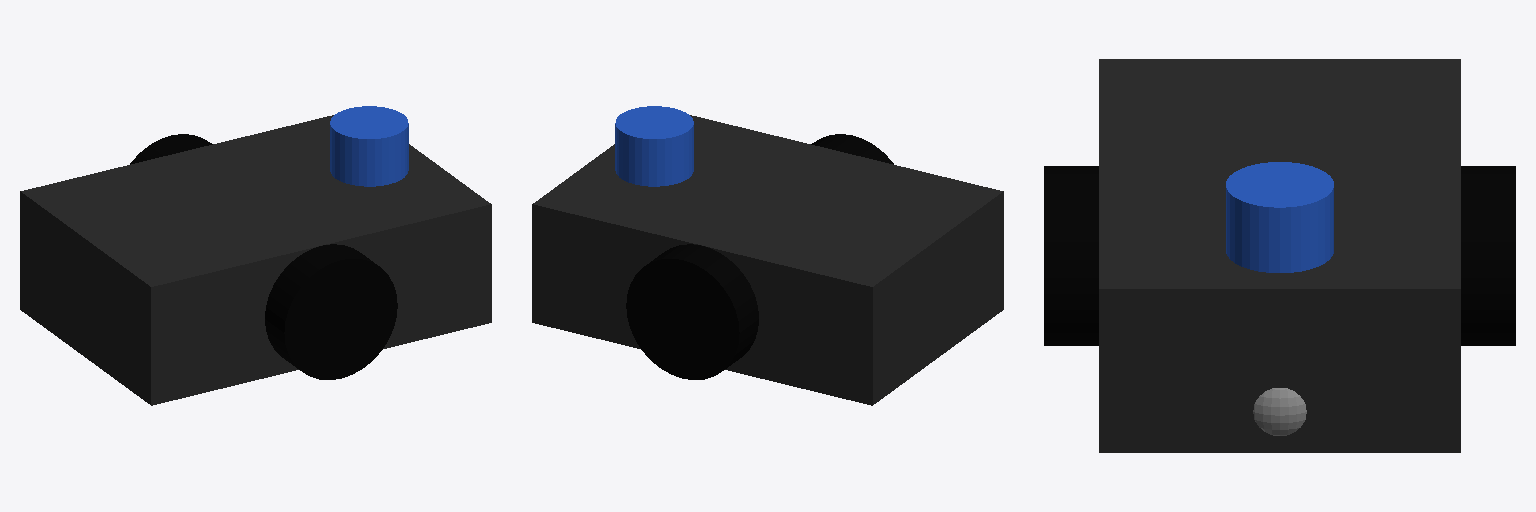
URDF robot description (demo_robot):
<?xml version="1.0"?>
<robot name="demo_robot">

  <!-- ── Materials ─────────────────────────────────────────────── -->
  <material name="dark_grey">
    <color rgba="0.2 0.2 0.2 1.0"/>
  </material>
  <material name="light_grey">
    <color rgba="0.6 0.6 0.6 1.0"/>
  </material>
  <material name="blue">
    <color rgba="0.2 0.4 0.8 1.0"/>
  </material>
  <material name="black">
    <color rgba="0.05 0.05 0.05 1.0"/>
  </material>

  <!-- ── Base link (chassis) ────────────────────────────────────── -->
  <link name="base_link">
    <visual>
      <geometry>
        <box size="0.30 0.20 0.10"/>
      </geometry>
      <origin xyz="0 0 0.05" rpy="0 0 0"/>
      <material name="dark_grey"/>
    </visual>
    <collision>
      <geometry>
        <box size="0.30 0.20 0.10"/>
      </geometry>
      <origin xyz="0 0 0.05" rpy="0 0 0"/>
    </collision>
    <inertial>
      <mass value="5.0"/>
      <inertia ixx="0.05" ixy="0" ixz="0"
               iyy="0.06" iyz="0"
               izz="0.09"/>
    </inertial>
  </link>

  <!-- ── Left wheel ─────────────────────────────────────────────── -->
  <link name="left_wheel">
    <visual>
      <geometry>
        <cylinder radius="0.05" length="0.03"/>
      </geometry>
      <material name="black"/>
    </visual>
    <collision>
      <geometry>
        <cylinder radius="0.05" length="0.03"/>
      </geometry>
    </collision>
    <inertial>
      <mass value="0.5"/>
      <inertia ixx="0.001" ixy="0" ixz="0"
               iyy="0.001" iyz="0"
               izz="0.001"/>
    </inertial>
  </link>

  <joint name="left_wheel_joint" type="continuous">
    <parent link="base_link"/>
    <child  link="left_wheel"/>
    <origin xyz="0.0 0.115 0.05" rpy="-1.5708 0 0"/>
    <axis   xyz="0 0 1"/>
  </joint>

  <!-- ── Right wheel ────────────────────────────────────────────── -->
  <link name="right_wheel">
    <visual>
      <geometry>
        <cylinder radius="0.05" length="0.03"/>
      </geometry>
      <material name="black"/>
    </visual>
    <collision>
      <geometry>
        <cylinder radius="0.05" length="0.03"/>
      </geometry>
    </collision>
    <inertial>
      <mass value="0.5"/>
      <inertia ixx="0.001" ixy="0" ixz="0"
               iyy="0.001" iyz="0"
               izz="0.001"/>
    </inertial>
  </link>

  <joint name="right_wheel_joint" type="continuous">
    <parent link="base_link"/>
    <child  link="right_wheel"/>
    <origin xyz="0.0 -0.115 0.05" rpy="-1.5708 0 0"/>
    <axis   xyz="0 0 1"/>
  </joint>

  <!-- ── Caster (front passive wheel) ──────────────────────────── -->
  <link name="caster_link">
    <visual>
      <geometry>
        <sphere radius="0.025"/>
      </geometry>
      <material name="light_grey"/>
    </visual>
    <collision>
      <geometry>
        <sphere radius="0.025"/>
      </geometry>
    </collision>
    <inertial>
      <mass value="0.1"/>
      <inertia ixx="0.0001" ixy="0" ixz="0"
               iyy="0.0001" iyz="0"
               izz="0.0001"/>
    </inertial>
  </link>

  <joint name="caster_joint" type="fixed">
    <parent link="base_link"/>
    <child  link="caster_link"/>
    <origin xyz="0.13 0 0.025" rpy="0 0 0"/>
  </joint>

  <!-- ── Laser (LiDAR) ──────────────────────────────────────────── -->
  <link name="laser_link">
    <visual>
      <geometry>
        <cylinder radius="0.03" length="0.04"/>
      </geometry>
      <origin xyz="0 0 0.02" rpy="0 0 0"/>
      <material name="blue"/>
    </visual>
    <collision>
      <geometry>
        <cylinder radius="0.03" length="0.04"/>
      </geometry>
    </collision>
    <inertial>
      <mass value="0.2"/>
      <inertia ixx="0.0001" ixy="0" ixz="0"
               iyy="0.0001" iyz="0"
               izz="0.0001"/>
    </inertial>
  </link>

  <joint name="laser_joint" type="fixed">
    <parent link="base_link"/>
    <child  link="laser_link"/>
    <origin xyz="0.10 0 0.10" rpy="0 0 0"/>
  </joint>

  <!-- ── IMU link ───────────────────────────────────────────────── -->
  <link name="imu_link">
    <inertial>
      <mass value="0.01"/>
      <inertia ixx="1e-6" ixy="0" ixz="0"
               iyy="1e-6" iyz="0"
               izz="1e-6"/>
    </inertial>
  </link>

  <joint name="imu_joint" type="fixed">
    <parent link="base_link"/>
    <child  link="imu_link"/>
    <origin xyz="0 0 0.10" rpy="0 0 0"/>
  </joint>

  <!-- ── ROS2 Control / Gazebo tags ─────────────────────────────── -->
  <gazebo reference="base_link">
    <material>Gazebo/DarkGrey</material>
  </gazebo>
  <gazebo reference="left_wheel">
    <material>Gazebo/Black</material>
    <mu1>1.0</mu1>
    <mu2>1.0</mu2>
  </gazebo>
  <gazebo reference="right_wheel">
    <material>Gazebo/Black</material>
    <mu1>1.0</mu1>
    <mu2>1.0</mu2>
  </gazebo>

  <gazebo>
    <plugin name="diff_drive" filename="libgazebo_ros_diff_drive.so">
      <left_joint>left_wheel_joint</left_joint>
      <right_joint>right_wheel_joint</right_joint>
      <wheel_separation>0.23</wheel_separation>
      <wheel_diameter>0.10</wheel_diameter>
      <command_topic>cmd_vel</command_topic>
      <odometry_topic>odom</odometry_topic>
      <odometry_frame>odom</odometry_frame>
      <robot_base_frame>base_link</robot_base_frame>
    </plugin>
  </gazebo>

  <gazebo reference="laser_link">
    <sensor type="ray" name="laser">
      <pose>0 0 0 0 0 0</pose>
      <ray>
        <scan>
          <horizontal>
            <samples>360</samples>
            <resolution>1</resolution>
            <min_angle>-3.14159</min_angle>
            <max_angle>3.14159</max_angle>
          </horizontal>
        </scan>
        <range>
          <min>0.12</min>
          <max>3.5</max>
        </range>
      </ray>
      <plugin name="gazebo_ros_laser" filename="libgazebo_ros_ray_sensor.so">
        <ros>
          <remapping>~/out:=scan</remapping>
        </ros>
        <output_type>sensor_msgs/LaserScan</output_type>
        <frame_name>laser_link</frame_name>
      </plugin>
    </sensor>
  </gazebo>

</robot>

--- Facts derived from the render (not from the file) ---
Views: 3 orthographic renders of the robot side by side, from view 1: azimuth 30°, elevation 25°; view 2: azimuth 150°, elevation 25°; view 3: azimuth 270°, elevation 25°.
Robot: demo_robot — 6 links, 5 joints (2 continuous, 3 fixed); root link base_link; default pose: all joints at 0.
Visible links, largest first — view 1: base_link, right_wheel, laser_link, left_wheel; view 2: base_link, left_wheel, laser_link, right_wheel; view 3: base_link, laser_link, left_wheel, right_wheel, caster_link.
Link boxes in pixels (x1,y1,x2,y2): base_link: (20, 115, 491, 405); right_wheel: (265, 244, 397, 379); laser_link: (330, 106, 408, 186); left_wheel: (130, 134, 212, 164); base_link: (532, 115, 1003, 405); left_wheel: (626, 244, 758, 379); laser_link: (615, 106, 693, 186); right_wheel: (811, 134, 893, 164); base_link: (1099, 59, 1460, 452); laser_link: (1226, 162, 1333, 272); left_wheel: (1461, 166, 1515, 345); right_wheel: (1044, 166, 1098, 345); caster_link: (1253, 388, 1306, 435).
Bounding box of the posed robot: 0.305 × 0.26 × 0.14 m (x, y, z).
Geometry: primitives only (box / cylinder / sphere), no mesh files.
